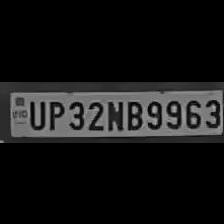2: (86, 97, 104, 130)
3: (64, 97, 84, 129), (202, 96, 222, 128)
6: (182, 96, 202, 128)
9: (162, 96, 182, 128), (144, 96, 162, 130)
B: (123, 96, 143, 130)
N: (105, 96, 123, 130)
P: (44, 97, 64, 129)
U: (26, 97, 44, 128)
